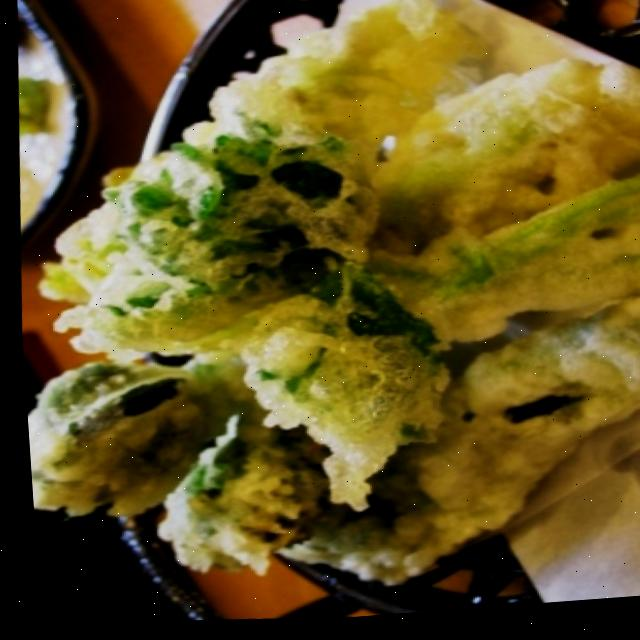蔬菜料理: (0, 0, 640, 629)
